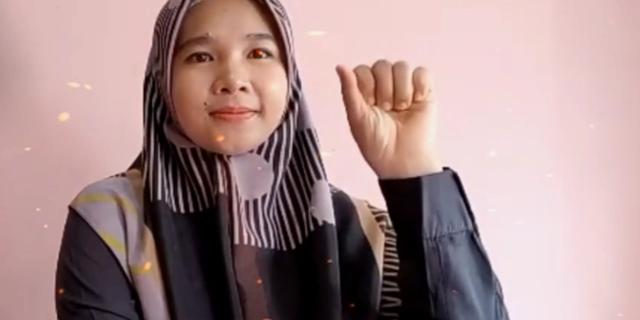A: (328, 44, 446, 160)
